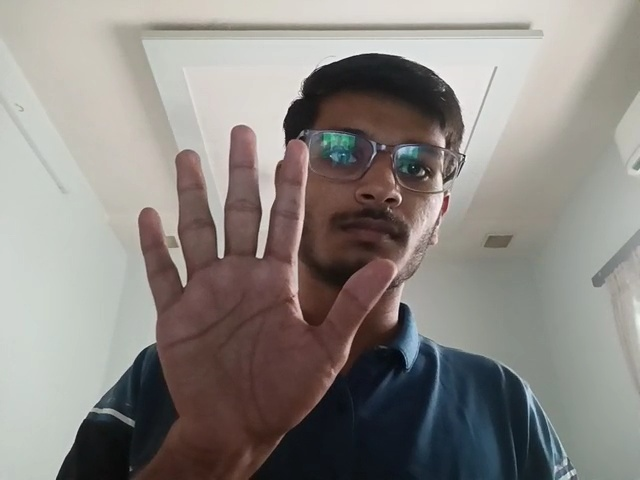Hello: (135, 116, 400, 448)
